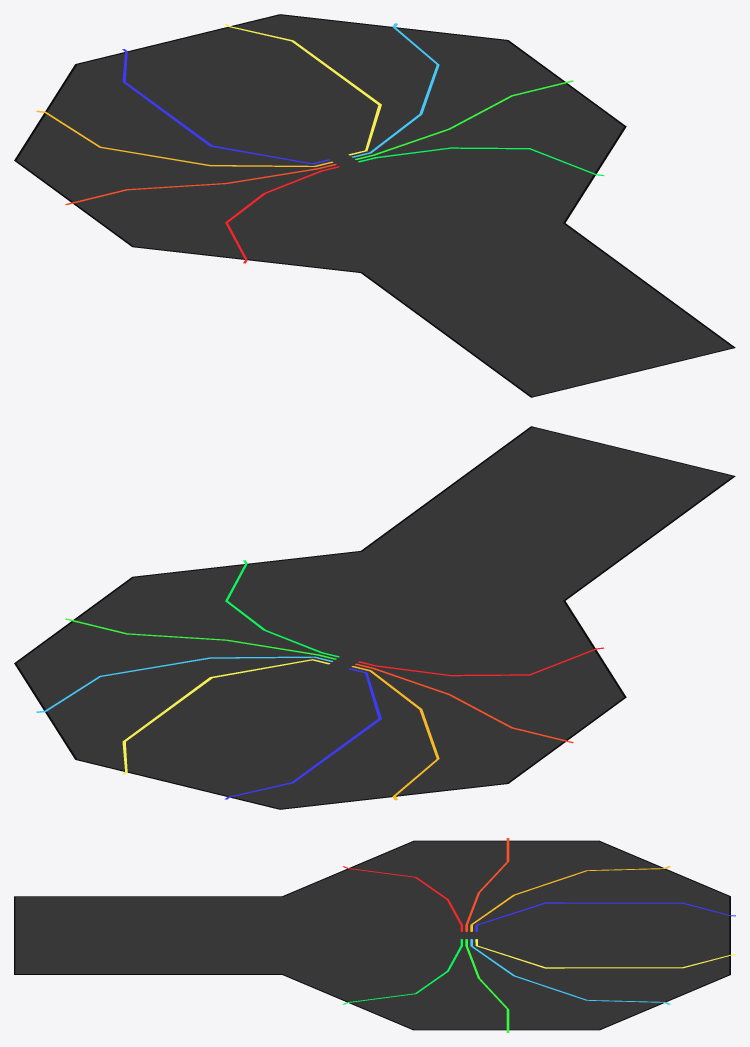
The model's file is Chao_HallMuseu_PrimeiroAndar.gltf.
3 renders of one model, top to bottom at view 1: azimuth 30°, elevation 25°; view 2: azimuth 150°, elevation 25°; view 3: azimuth 270°, elevation 25°, orthographic. The views are drawn at different scales.
Parts seen in each view (by area): view 1: Cylinder.001; view 2: Cylinder.001; view 3: Cylinder.001.
Boxes of the visible parts, bbox=[...] form: Cylinder.001: bbox=[14, 14, 735, 397]; Cylinder.001: bbox=[14, 426, 735, 809]; Cylinder.001: bbox=[14, 838, 735, 1032].
Size of the model in its own units: 37 by 0.0113 by 57.93.
Materials: 9 (1 with a texture image).
